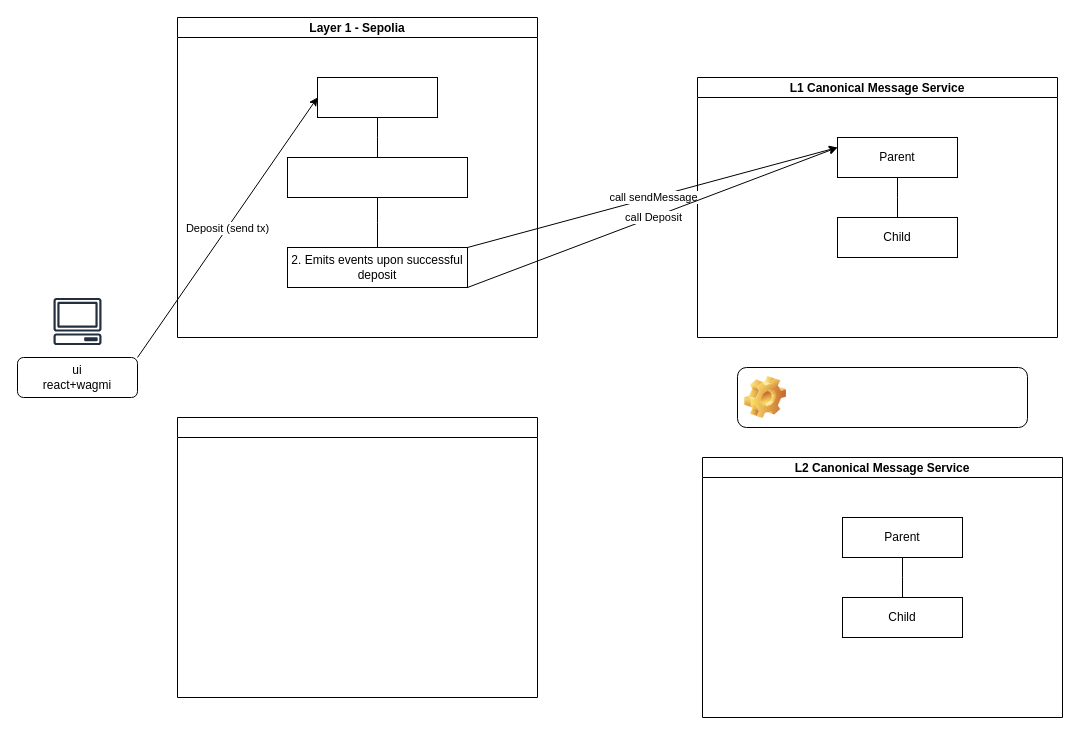
Some shapes in this 1080 by 735 pixel diagram are drawn without their labels. Each missing label, with the centre of its shape:
1. Receives deposits from users on L1.: pixel 377 177
Bridge contract: pixel 377 97
Cross-Chain Relay (Postman Linea Infra): pixel 882 397
Layer 2 - Linea Sepolia: pixel 357 557
